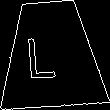L_N: (34, 27, 68, 80)
